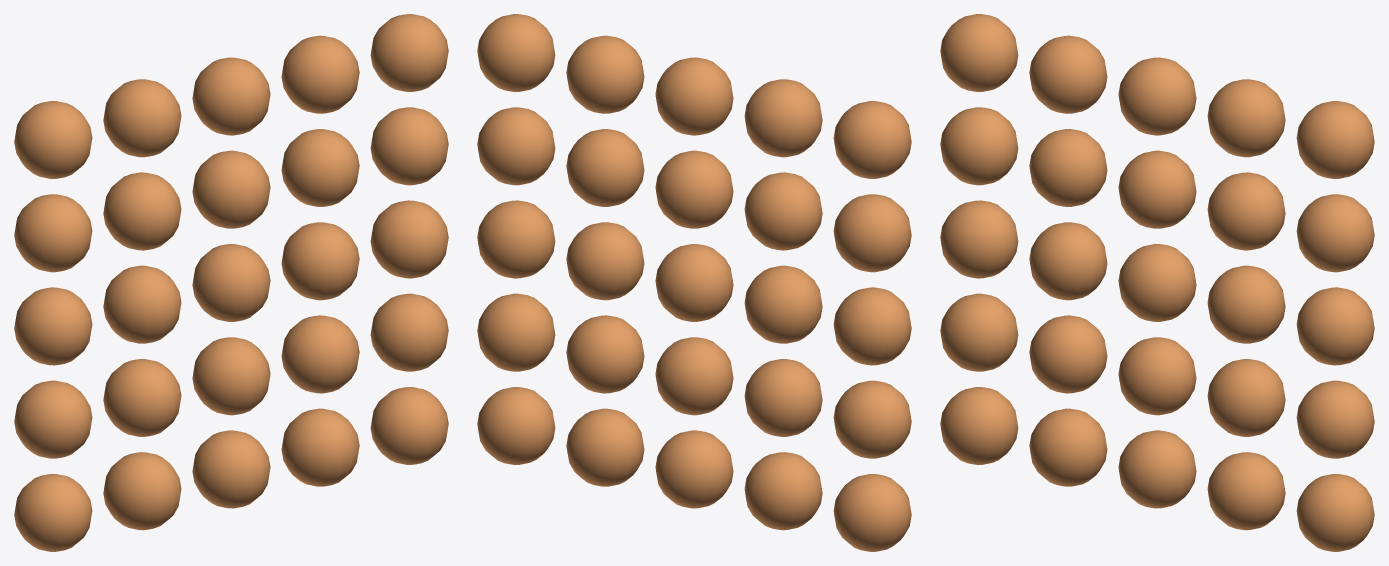
3 views of the same model, side by side, from view 1: azimuth 30°, elevation 25°; view 2: azimuth 150°, elevation 25°; view 3: azimuth 330°, elevation 25° (orthographic).
Visible parts, largest first — view 1: Sphere_2_0, Sphere_2_4, Sphere_0_2, Sphere_4_2, Sphere_1_1, Sphere_3_3, Sphere_0_1, Sphere_2_1, Sphere_2_3, Sphere_4_3, Sphere_1_4, Sphere_3_0 (+13 smaller); view 2: Sphere_2_0, Sphere_2_4, Sphere_0_2, Sphere_4_2, Sphere_1_1, Sphere_3_3, Sphere_0_1, Sphere_2_1, Sphere_2_3, Sphere_4_3, Sphere_1_4, Sphere_3_0 (+13 smaller); view 3: Sphere_2_0, Sphere_2_4, Sphere_0_2, Sphere_4_2, Sphere_1_3, Sphere_3_1, Sphere_0_3, Sphere_2_1, Sphere_2_3, Sphere_4_1, Sphere_1_0, Sphere_3_4 (+13 smaller).
Boxes of the visible parts, left/top/right/bottom form: Sphere_2_0: left=14, top=287, right=92, bottom=365; Sphere_2_4: left=370, top=200, right=448, bottom=278; Sphere_0_2: left=192, top=57, right=270, bottom=135; Sphere_4_2: left=192, top=430, right=270, bottom=508; Sphere_1_1: left=103, top=172, right=181, bottom=250; Sphere_3_3: left=281, top=315, right=359, bottom=393; Sphere_0_1: left=103, top=79, right=181, bottom=157; Sphere_2_1: left=103, top=265, right=181, bottom=343; Sphere_2_3: left=281, top=222, right=359, bottom=300; Sphere_4_3: left=281, top=408, right=359, bottom=486; Sphere_1_4: left=370, top=107, right=448, bottom=185; Sphere_3_0: left=14, top=380, right=92, bottom=458; Sphere_2_0: left=833, top=287, right=911, bottom=365; Sphere_2_4: left=477, top=200, right=555, bottom=278; Sphere_0_2: left=655, top=57, right=733, bottom=135; Sphere_4_2: left=655, top=430, right=733, bottom=508; Sphere_1_1: left=744, top=172, right=822, bottom=250; Sphere_3_3: left=566, top=315, right=644, bottom=393; Sphere_0_1: left=744, top=79, right=822, bottom=157; Sphere_2_1: left=744, top=265, right=822, bottom=343; Sphere_2_3: left=566, top=222, right=644, bottom=300; Sphere_4_3: left=566, top=408, right=644, bottom=486; Sphere_1_4: left=477, top=107, right=555, bottom=185; Sphere_3_0: left=833, top=380, right=911, bottom=458; Sphere_2_0: left=940, top=200, right=1018, bottom=278; Sphere_2_4: left=1296, top=287, right=1374, bottom=365; Sphere_0_2: left=1118, top=57, right=1196, bottom=135; Sphere_4_2: left=1118, top=430, right=1196, bottom=508; Sphere_1_3: left=1207, top=172, right=1285, bottom=250; Sphere_3_1: left=1029, top=315, right=1107, bottom=393; Sphere_0_3: left=1207, top=79, right=1285, bottom=157; Sphere_2_1: left=1029, top=222, right=1107, bottom=300; Sphere_2_3: left=1207, top=265, right=1285, bottom=343; Sphere_4_1: left=1029, top=408, right=1107, bottom=486; Sphere_1_0: left=940, top=107, right=1018, bottom=185; Sphere_3_4: left=1296, top=380, right=1374, bottom=458.
Bounding box in the file's own units: 11.2 × 11.2 × 1.8.
